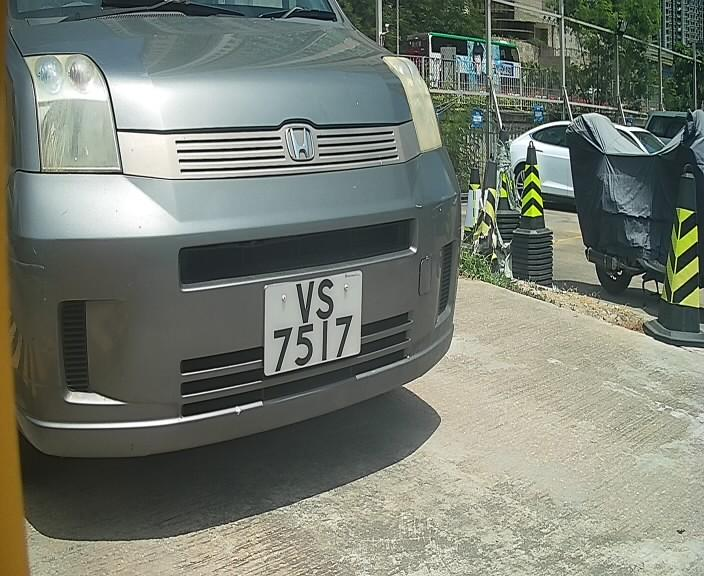License Plate: (252, 265, 371, 386)
